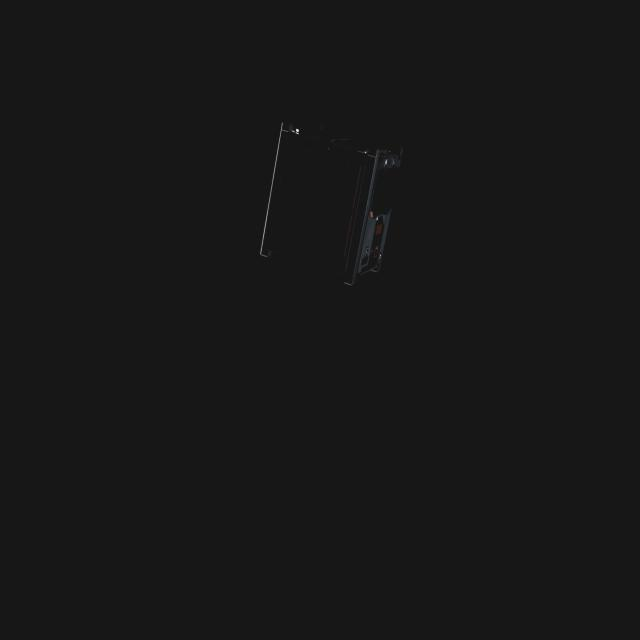medium_debris: (250, 114, 408, 319)
